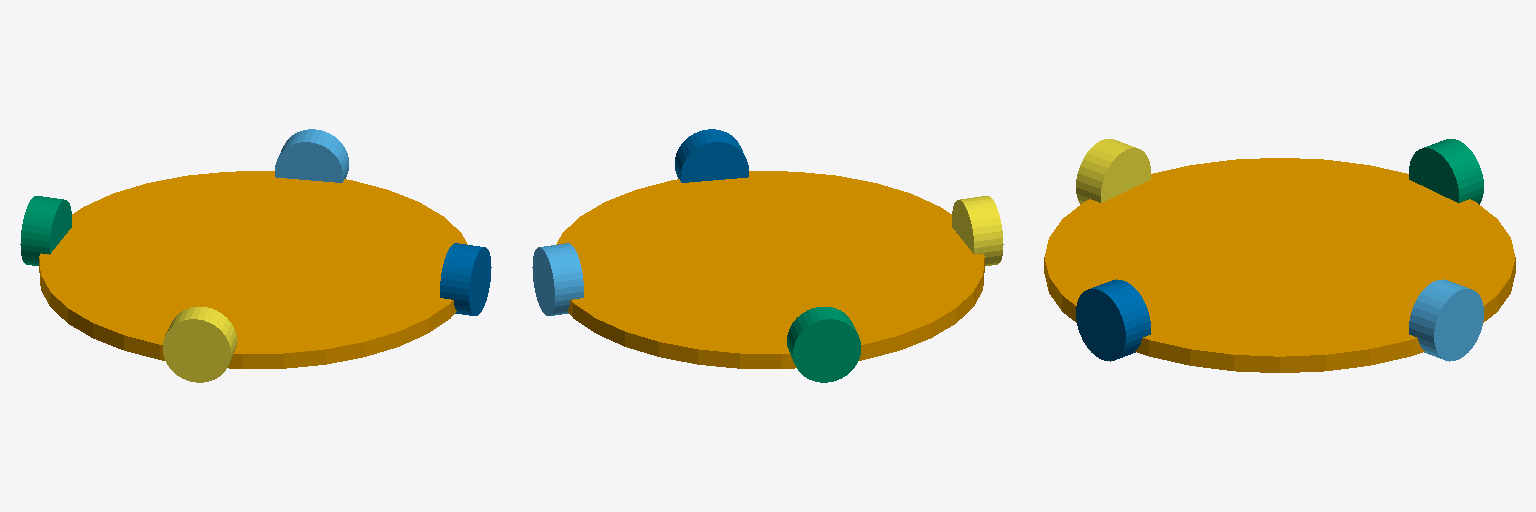
The robot description file, URDF, robot "robot":
<?xml version="1.0"?>
<robot name="robot">
    <link name="base_link">
        <visual>
            <geometry> 
                <cylinder radius="18" length="1.4"/>
            </geometry>
            <origin rpy="0 0 0" xyz="0 0 0.7"/>
        </visual>
    </link>
    <link name="wheel1">
        <visual>
            <geometry> 
                <cylinder radius="2.9" length="2.56"/>
            </geometry>
            <origin xyz="0 0 0" rpy="0 0 0"/>
        </visual>
    </link>
    <link name="wheel2">
        <visual>
            <geometry> 
                <cylinder radius="2.9" length="2.56"/>
            </geometry>
            <origin xyz="0 0 0" rpy="0 0 0"/>
        </visual>
    </link>
    <link name="wheel3">
        <visual>
            <geometry> 
                <cylinder radius="2.9" length="2.56"/>
            </geometry>
            <origin xyz="0 0 0" rpy="0 0 0"/>
        </visual>
    </link>
    <link name="wheel4">
        <visual>
            <geometry> 
                <cylinder radius="2.9" length="2.56"/>
            </geometry>
            <origin xyz="0 0 0" rpy="0 0 0"/>
        </visual>
    </link>


    <joint name="wheel1-base" type="continuous">
        <parent link="base_link"/>
        <child link="wheel1"/>
        <origin xyz="12.73 12.73 2" rpy="-0.85 1.57 0"/>
        <axis xyz="0 0 1" />
    </joint>
    <joint name="wheel2-base" type="continuous">
        <parent link="base_link"/>
        <child link="wheel2"/>
        <origin xyz="-12.73 12.73 2" rpy="-0.85 -1.57 0"/>
        <axis xyz="0 0 1"/>
    </joint>
    <joint name="wheel3-base" type="continuous">
        <parent link="base_link"/>
        <child link="wheel3"/>
        <origin xyz="-12.73 -12.73 2" rpy="0.85 -1.57 0"/>
        <axis xyz="0 0 1"/>
    </joint>
    <joint name="wheel4-base" type="continuous">
        <parent link="base_link"/>
        <child link="wheel4"/>
        <origin xyz="12.73 -12.73 2" rpy="0.85 1.57 0"/>
        <axis xyz="0 0 1"/>
    </joint>
</robot>

--- Render facts (derived) ---
3 views of the same robot in one strip: view 1: azimuth 30°, elevation 25°; view 2: azimuth 150°, elevation 25°; view 3: azimuth 270°, elevation 25° (orthographic).
Model robot with 5 links and 4 joints (4 continuous), rooted at base_link, posed all joints at 0.
Links seen in each view (by area): view 1: base_link, wheel3, wheel1, wheel4, wheel2; view 2: base_link, wheel2, wheel4, wheel1, wheel3; view 3: base_link, wheel1, wheel4, wheel2, wheel3.
Boxes of the visible links, <box> form: base_link: <box>39,171,467,368</box>; wheel3: <box>163,307,236,382</box>; wheel1: <box>275,129,348,182</box>; wheel4: <box>440,243,491,315</box>; wheel2: <box>20,196,71,265</box>; base_link: <box>556,171,984,368</box>; wheel2: <box>787,307,860,382</box>; wheel4: <box>675,129,748,182</box>; wheel1: <box>532,243,583,315</box>; wheel3: <box>952,196,1003,265</box>; base_link: <box>1044,158,1515,372</box>; wheel1: <box>1409,279,1483,361</box>; wheel4: <box>1076,279,1150,361</box>; wheel2: <box>1409,139,1483,204</box>; wheel3: <box>1076,139,1150,204</box>.
Bounding box of the posed robot: 36 × 36 × 5.8 m (x, y, z).
Geometry: primitives only (box / cylinder / sphere), no mesh files.